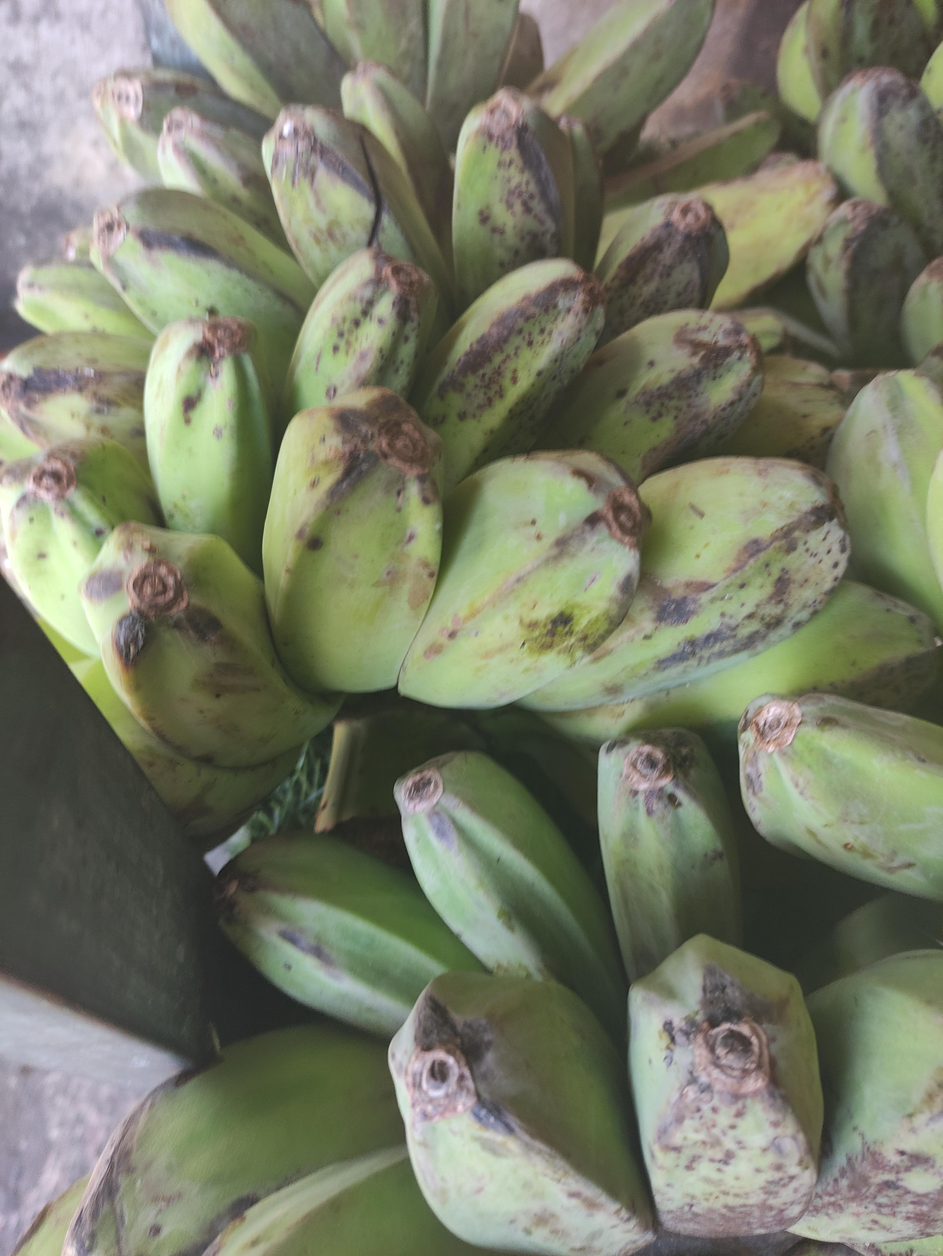underripe: (0, 248, 939, 840), (21, 730, 943, 1256), (0, 63, 731, 452), (93, 0, 715, 180), (803, 0, 943, 366), (827, 350, 943, 635)
